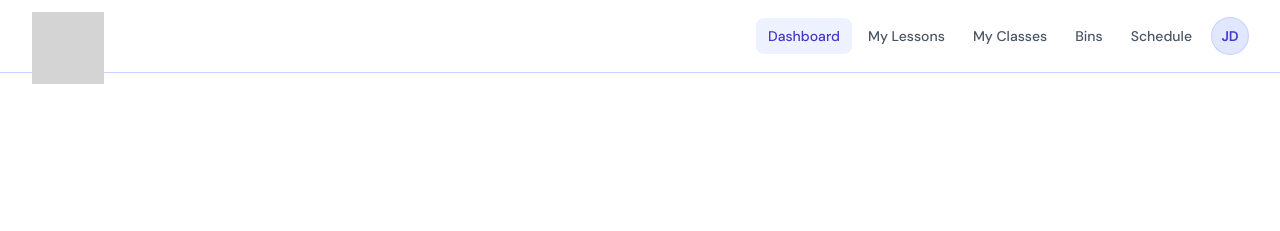
TeacherNav › has no accessibility violations with menu open
Click the button with aria-label "Open user menu".
click(1230, 36)  # box [1212,18,1248,54]
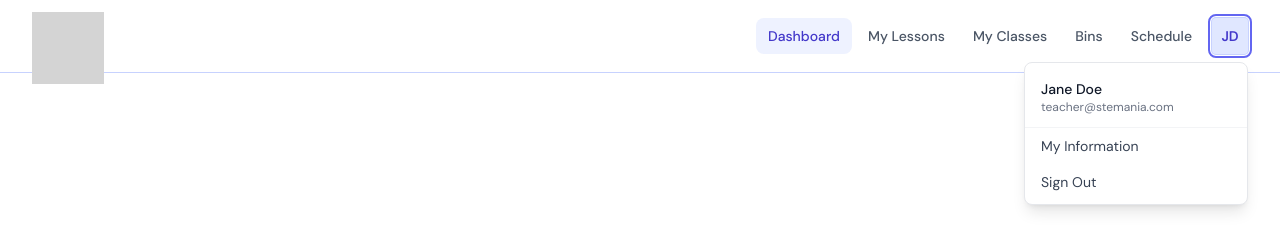
Expected: the menu is shown, [1024,62,1248,205]
